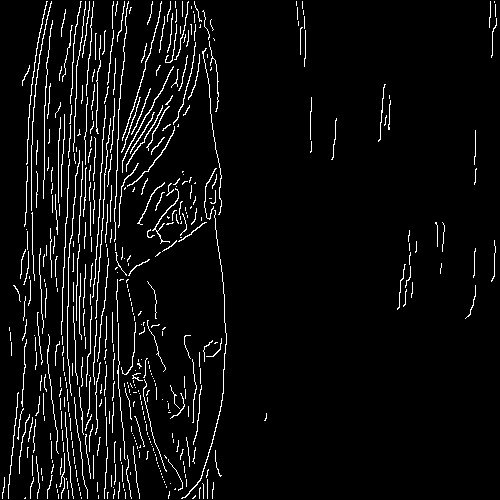mask: (126, 245, 234, 458)
